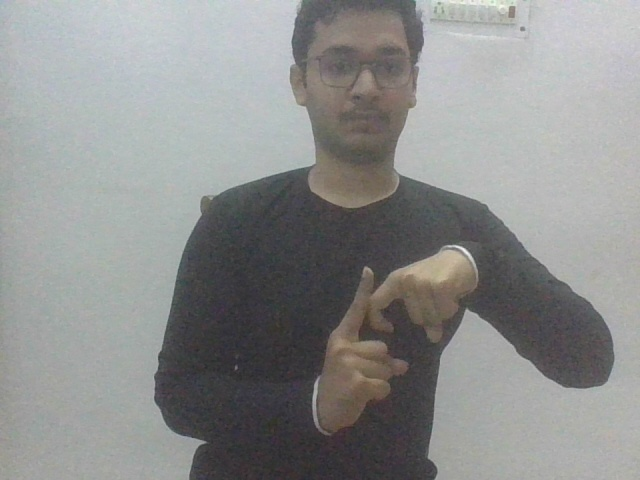K: (308, 237, 480, 439)
